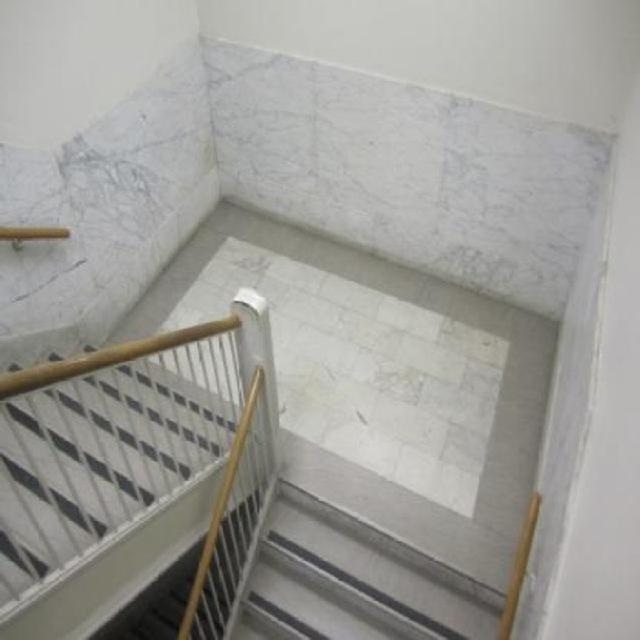stair: (0, 296, 236, 572), (210, 443, 524, 640)
